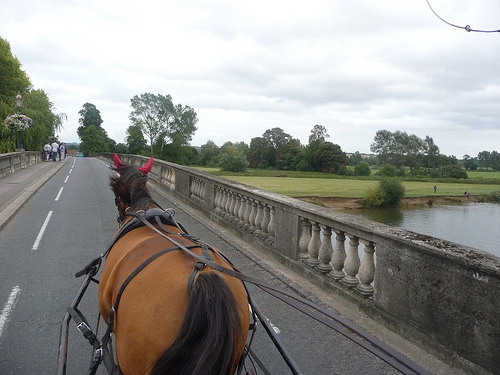horse: (96, 149, 252, 375)
